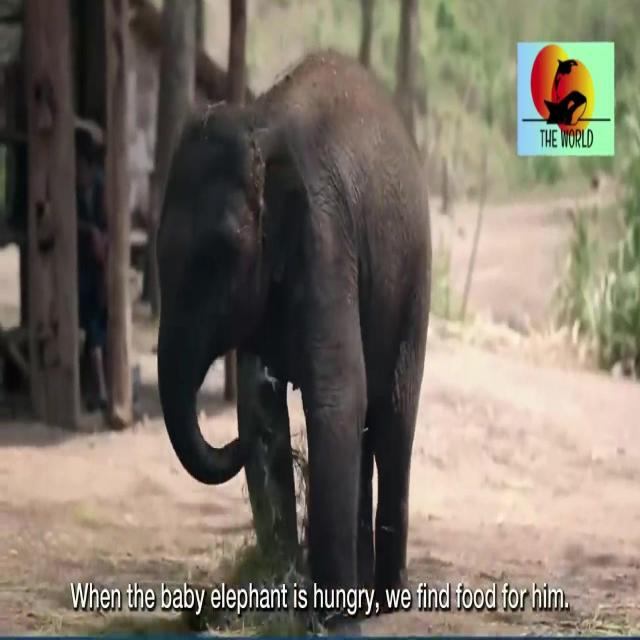Elephant: (160, 67, 416, 525)
